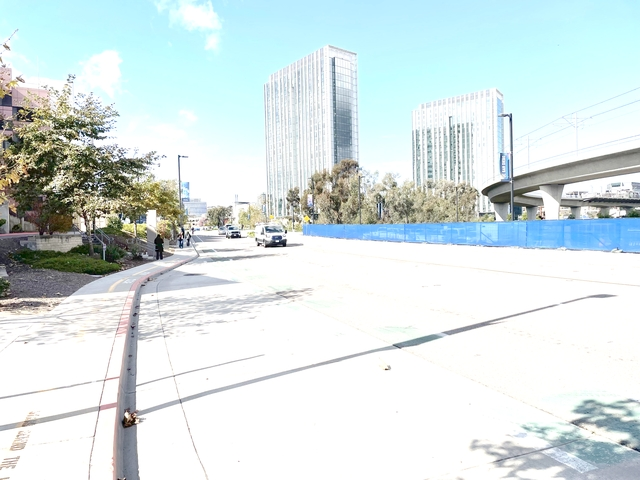Car: (253, 221, 288, 248), (225, 225, 241, 240), (217, 225, 226, 236)
